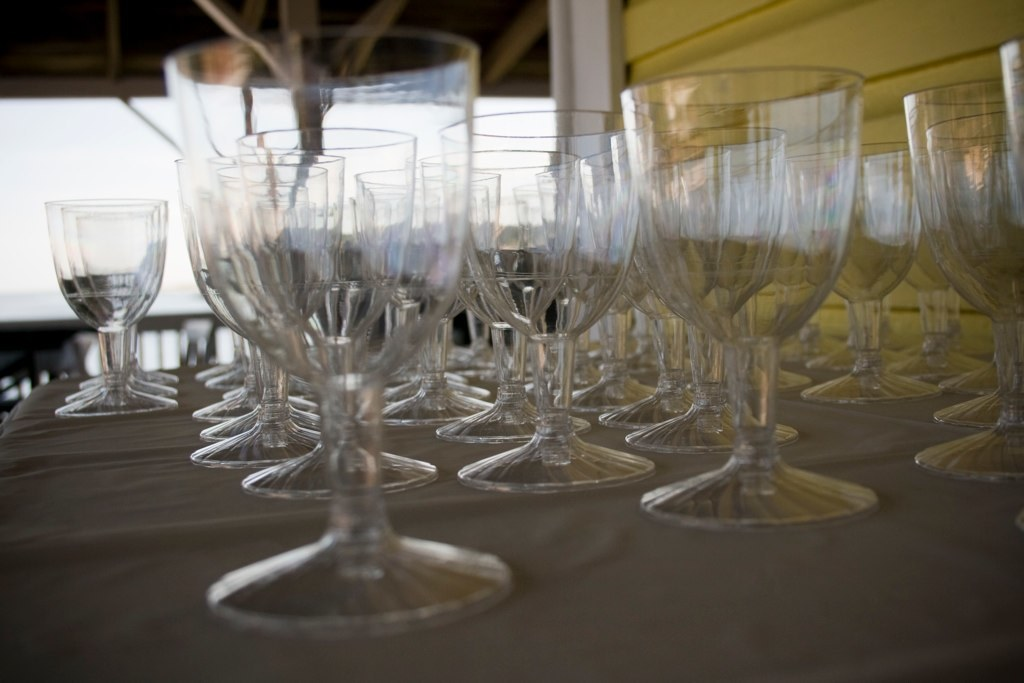Table: (2, 282, 1023, 682)
